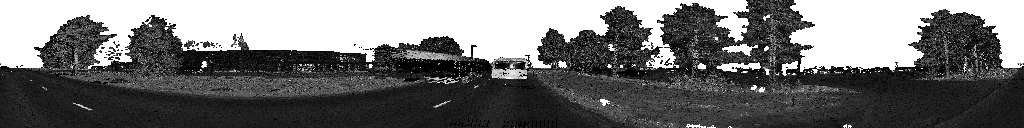light_pole: (525, 56, 532, 71), (471, 46, 476, 58)
traffic_pole: (208, 61, 214, 77)
